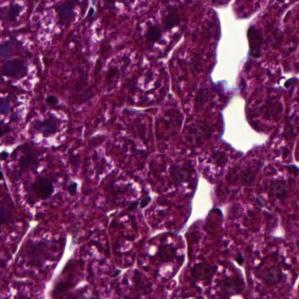inflammation: (145, 228, 192, 280), (20, 105, 69, 150)
